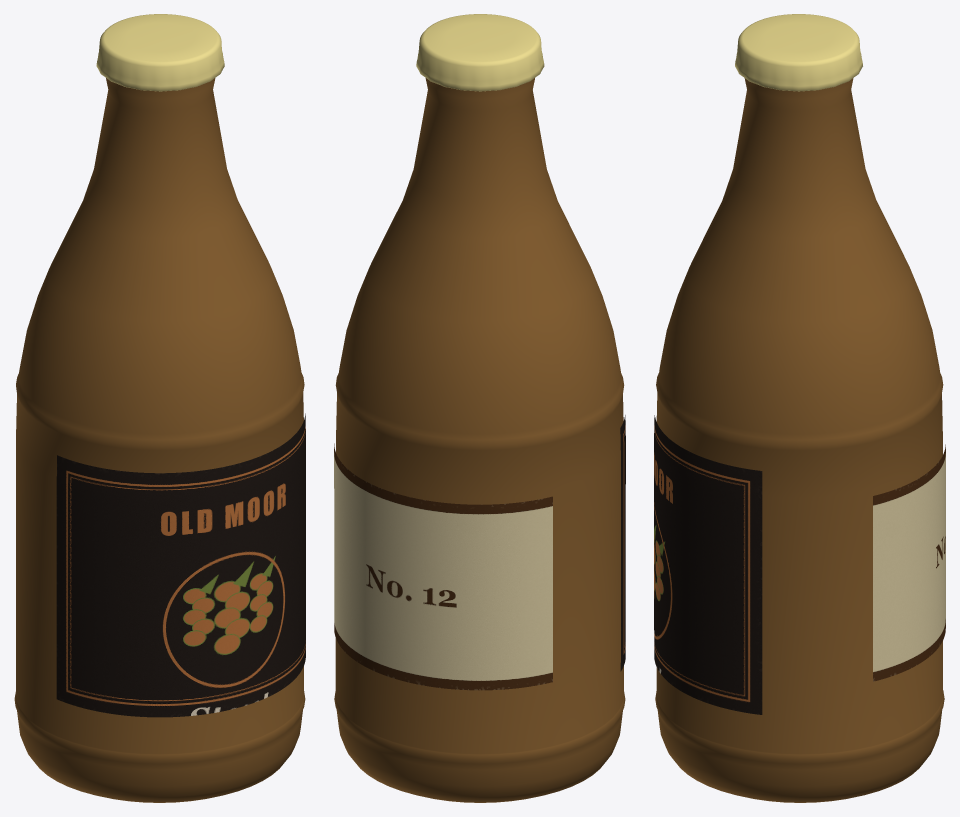
Rendered from v2_stubby_stout.glb.
The picture shows the model from 3 angles, left to right: view 1: azimuth 30°, elevation 25°; view 2: azimuth 150°, elevation 25°; view 3: azimuth 270°, elevation 25°; orthographic projection.
Visible parts, largest first — view 1: Glass, Label_front, Cap; view 2: Glass, Label_back, Cap, Label_front; view 3: Glass, Label_front, Label_back, Cap.
Boxes of the visible parts, <box> form: Glass: <box>14,78,305,802</box>; Label_front: <box>56,413,305,717</box>; Cap: <box>96,14,224,91</box>; Glass: <box>334,78,625,802</box>; Label_back: <box>334,443,552,690</box>; Cap: <box>416,14,544,91</box>; Label_front: <box>620,415,625,671</box>; Glass: <box>655,78,944,802</box>; Label_front: <box>654,415,762,714</box>; Label_back: <box>873,444,945,681</box>; Cap: <box>735,14,862,91</box>.
Size of the model in its own units: 0.0682 by 0.1848 by 0.0683.
5 materials, 2 textured.
